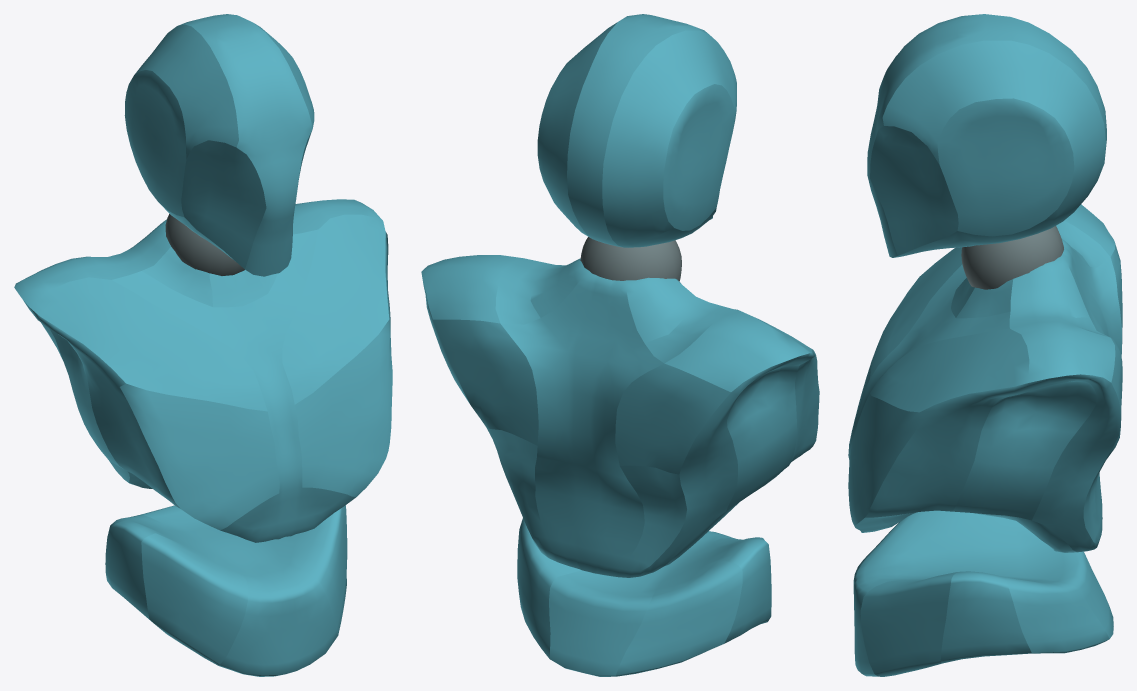
Rendered from BotBust.glb.
3 renders of one model, left to right at view 1: azimuth 30°, elevation 25°; view 2: azimuth 150°, elevation 25°; view 3: azimuth 270°, elevation 25°, orthographic. The views are drawn at different scales.
Visible parts, largest first — view 1: Body, Head; view 2: Body, Head; view 3: Body, Head.
Part boxes in pixels (bbox=[...]): Body: bbox=[14, 199, 392, 676]; Head: bbox=[124, 14, 314, 276]; Body: bbox=[421, 237, 819, 676]; Head: bbox=[537, 14, 736, 247]; Body: bbox=[848, 204, 1122, 676]; Head: bbox=[867, 14, 1106, 257].
Bounding box in the file's own units: 0.4453 × 0.7272 × 0.2829.
